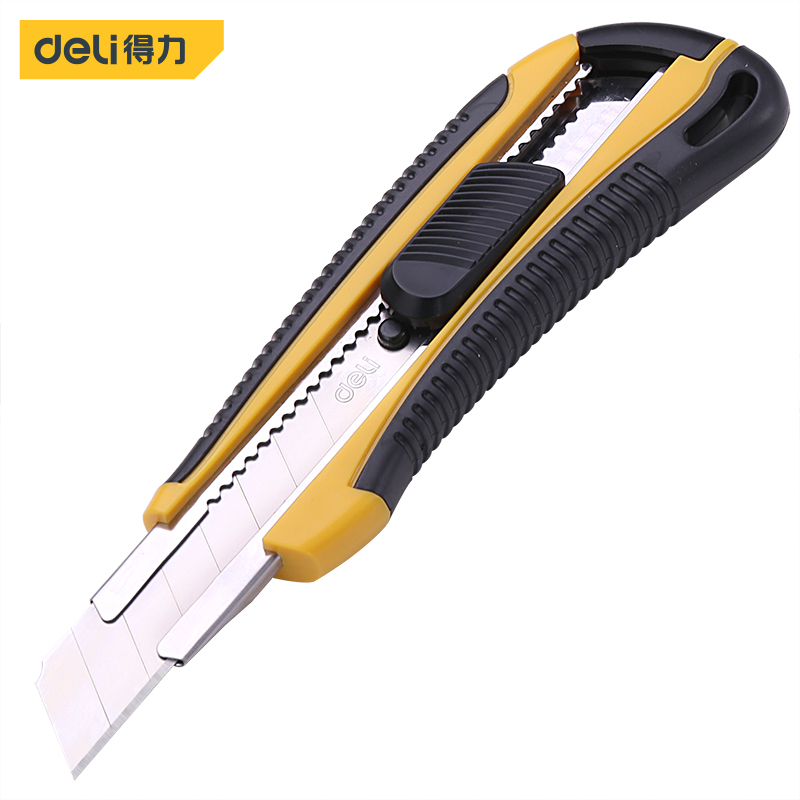cutter: (31, 23, 789, 782)
